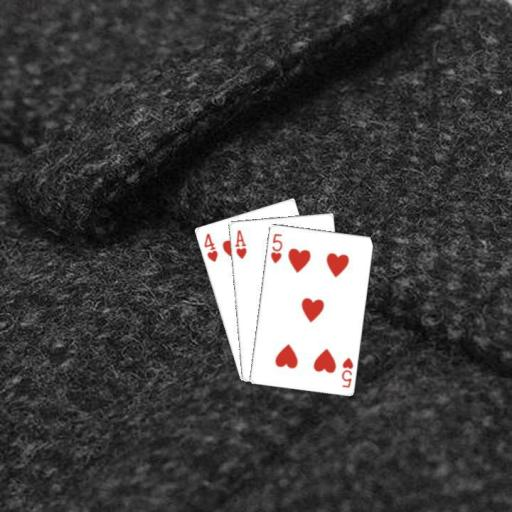4H: (201, 230, 219, 263)
5H: (267, 231, 284, 265), (339, 354, 354, 389)
AH: (232, 227, 247, 260)
